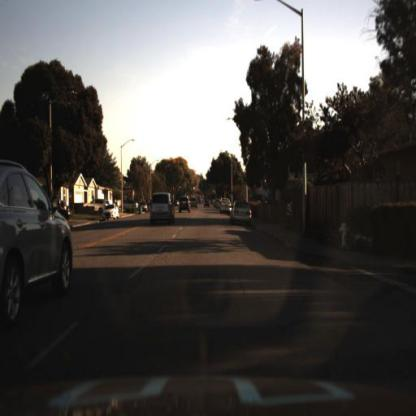car: (2, 158, 76, 317), (150, 192, 180, 226), (228, 199, 254, 225), (102, 199, 123, 222), (85, 198, 112, 214), (178, 194, 193, 214), (121, 196, 139, 212), (137, 200, 151, 218), (221, 197, 234, 215), (204, 199, 213, 208)
